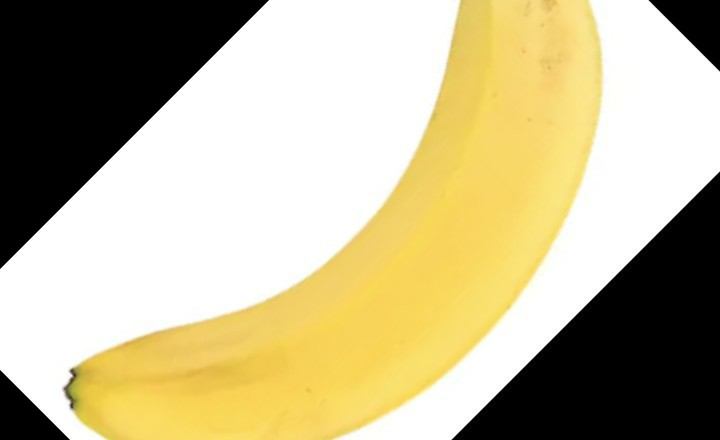fresh_banana: (76, 2, 605, 440)
